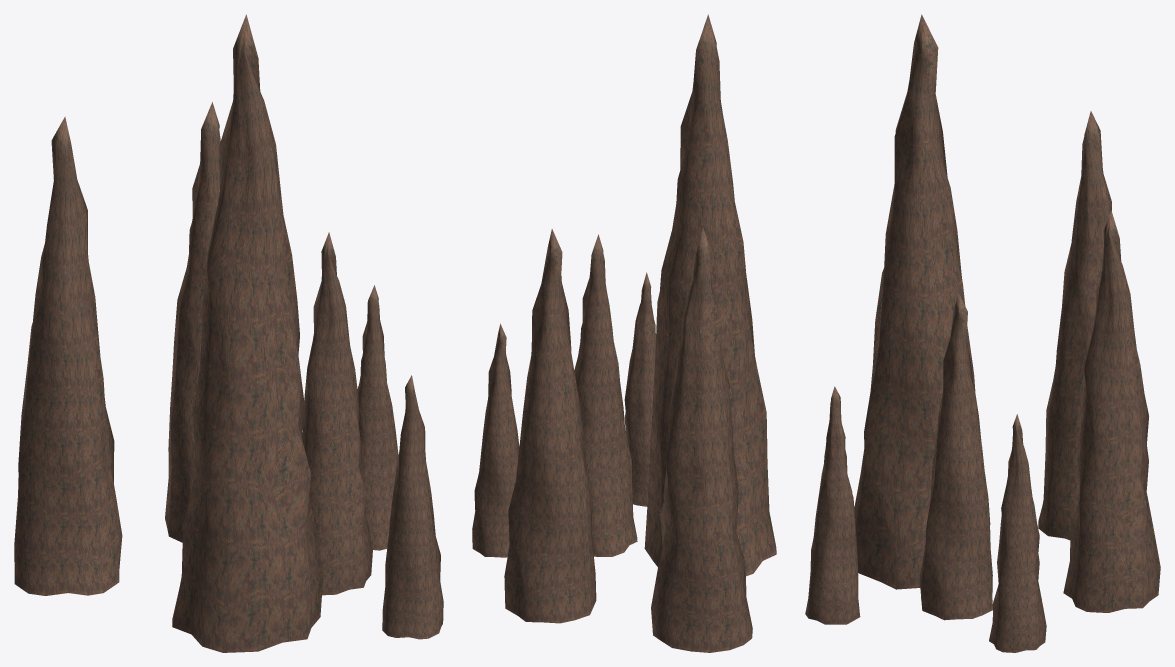
The model's file is cave_objects_stalag2.glb.
The picture shows the model from 3 angles, left to right: view 1: azimuth 30°, elevation 25°; view 2: azimuth 150°, elevation 25°; view 3: azimuth 270°, elevation 25°; orthographic projection. The views are drawn at different scales.
Visible parts, largest first — view 1: stalag2-col; view 2: stalag2-col; view 3: stalag2-col.
Part boxes in pixels (x1,y1,x2,y2): stalag2-col: (14, 14, 443, 652); stalag2-col: (472, 14, 776, 652); stalag2-col: (805, 14, 1160, 652).
Size of the model in its own units: 1.41 by 2.38 by 1.39.
1 material, 1 textured.
